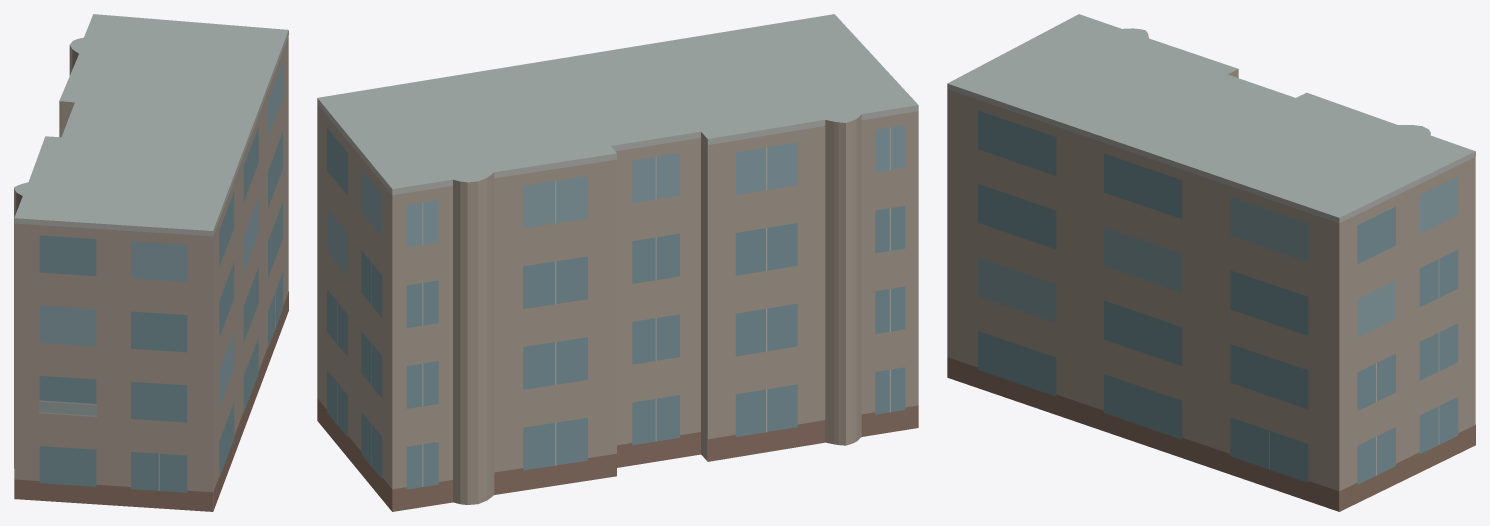
Rendered from survey-upis-32716198.glb.
3 views of the same model, side by side, from view 1: azimuth 30°, elevation 25°; view 2: azimuth 150°, elevation 25°; view 3: azimuth 270°, elevation 25° (orthographic). The views are drawn at different scales.
Visible parts, largest first — view 1: survey-upis-32716198.tmp; view 2: survey-upis-32716198.tmp; view 3: survey-upis-32716198.tmp.
Boxes of the visible parts, x1,y1,x2,y2 form: survey-upis-32716198.tmp: (14,14,288,511); survey-upis-32716198.tmp: (317,14,918,511); survey-upis-32716198.tmp: (947,14,1475,511).
Bounding box in the file's own units: 19.18 × 12.9 × 21.02.
